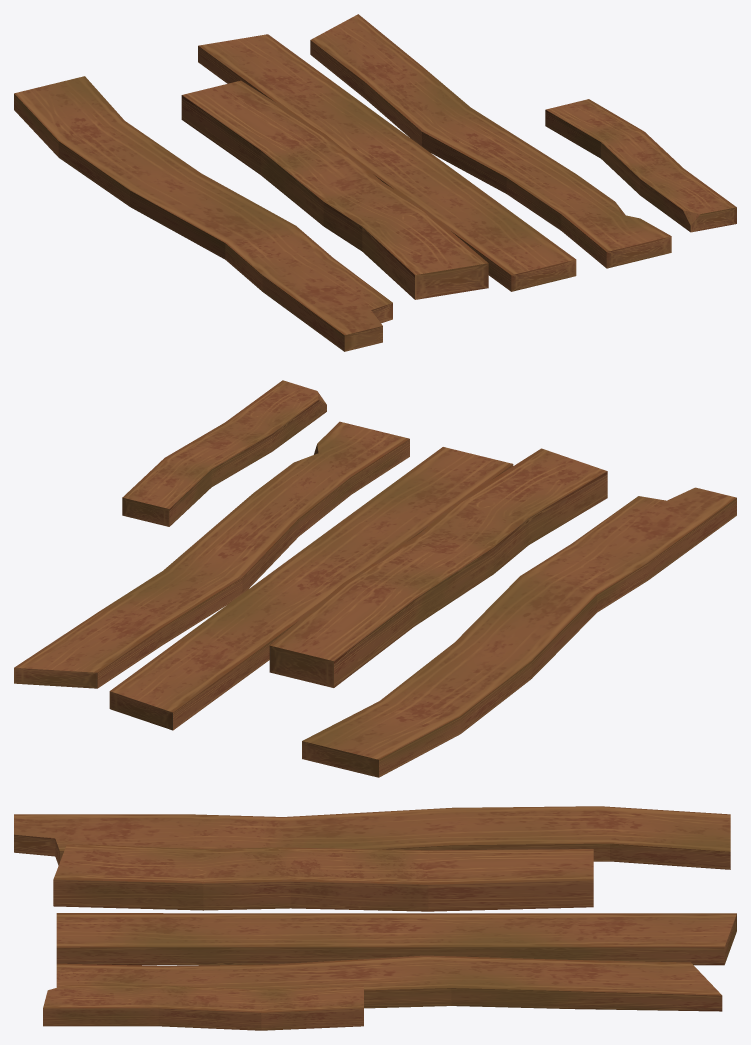
The model's file is planks.fbx.
3 renders of one model, top to bottom at view 1: azimuth 30°, elevation 25°; view 2: azimuth 150°, elevation 25°; view 3: azimuth 270°, elevation 25°, orthographic. The views are drawn at different scales.
Parts seen in each view (by area): view 1: Wood_4, Wood_2, Wood_3, Wood_1, Wood_5; view 2: Wood_4, Wood_2, Wood_3, Wood_1, Wood_5; view 3: Wood_1, Wood_2, Wood_4, Wood_3, Wood_5.
Boxes of the visible parts, x1,y1,x2,y2 form: Wood_4: (14, 76, 392, 351); Wood_2: (181, 80, 488, 299); Wood_3: (310, 14, 671, 268); Wood_1: (198, 34, 576, 291); Wood_5: (545, 99, 736, 232); Wood_4: (302, 487, 736, 777); Wood_2: (269, 448, 607, 687); Wood_3: (14, 421, 409, 688); Wood_1: (109, 447, 513, 730); Wood_5: (122, 380, 326, 526); Wood_1: (56, 913, 736, 965); Wood_2: (53, 844, 593, 911); Wood_4: (14, 806, 730, 869); Wood_3: (56, 955, 722, 1011); Wood_5: (43, 985, 363, 1030).
Size of the model in its own units: 487 by 38.72 by 655.
